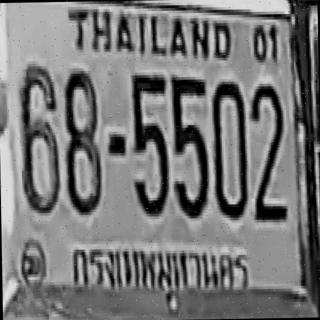N00: (211, 78, 247, 218)
N02: (250, 80, 284, 220)
N05: (170, 74, 208, 216), (130, 72, 168, 214)
N06: (19, 63, 60, 213)
N08: (63, 68, 102, 212)
P04: (62, 227, 255, 306)
